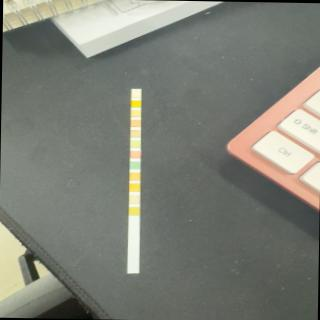mark: (128, 206, 140, 215), (128, 194, 140, 203), (128, 183, 140, 191), (129, 172, 140, 180), (130, 161, 140, 169), (130, 150, 140, 158), (130, 129, 140, 137), (130, 119, 140, 127), (130, 140, 141, 147), (131, 100, 141, 107), (131, 90, 141, 97), (130, 110, 140, 116)
